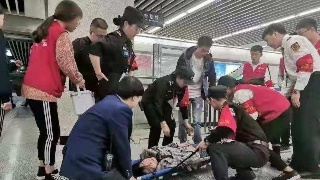falling: (127, 134, 219, 180)
